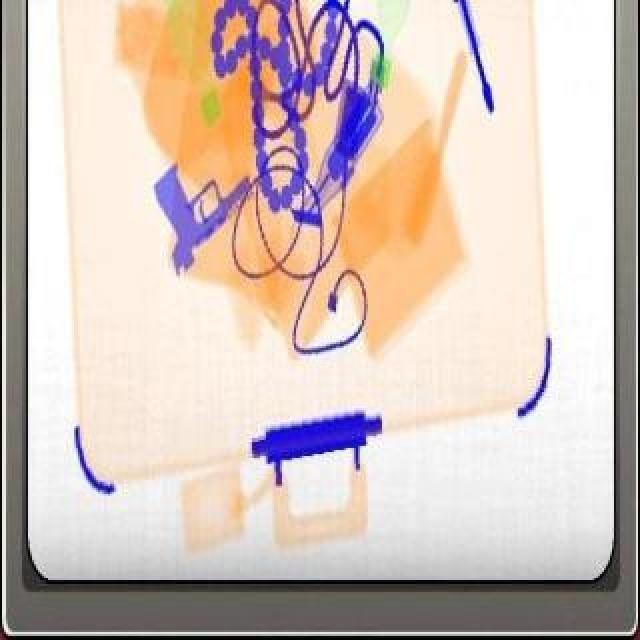gun: (150, 160, 252, 270)
